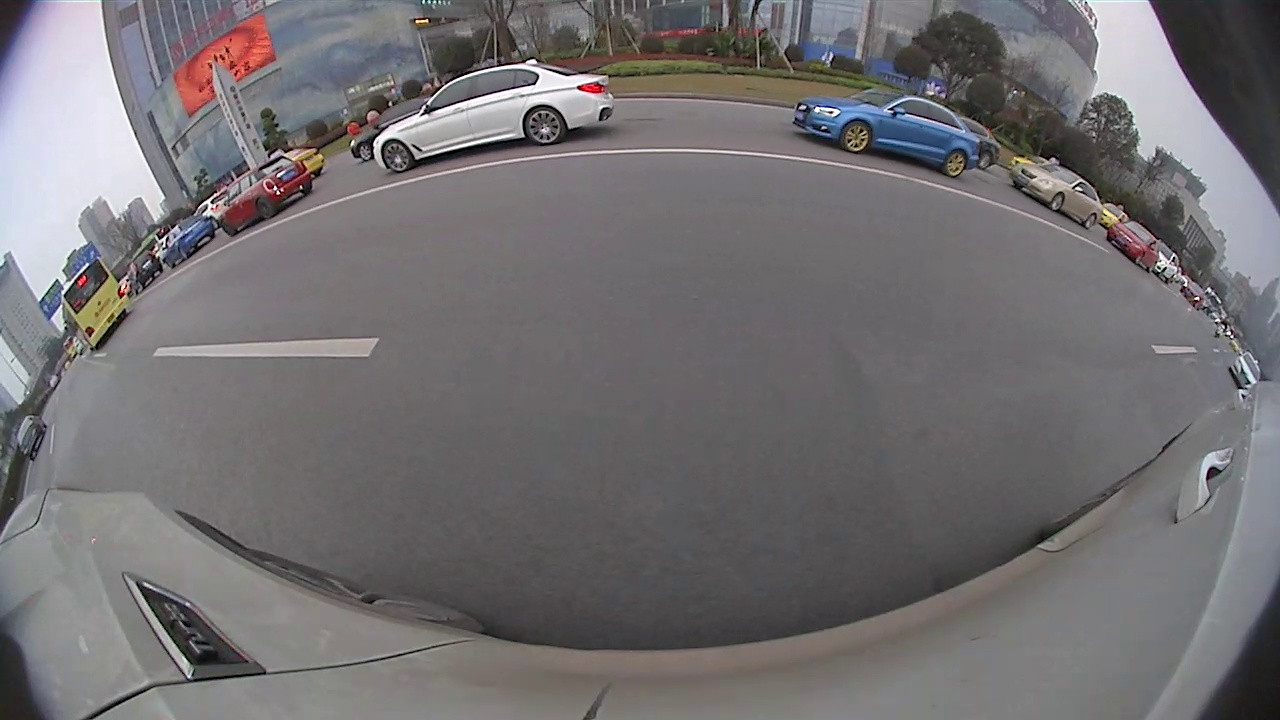bus: (61, 257, 130, 346)
car: (371, 56, 616, 174), (794, 88, 981, 179), (223, 153, 312, 236), (1010, 161, 1103, 232), (349, 94, 435, 163), (1106, 221, 1160, 273), (955, 115, 1002, 169), (283, 146, 329, 172)
front: (379, 138, 413, 174), (837, 118, 871, 154), (354, 140, 371, 163), (221, 218, 237, 241), (1049, 192, 1065, 213)
rear: (521, 103, 569, 148), (943, 146, 968, 179), (255, 196, 277, 220), (975, 149, 996, 172), (1080, 212, 1098, 232), (296, 178, 314, 197)
